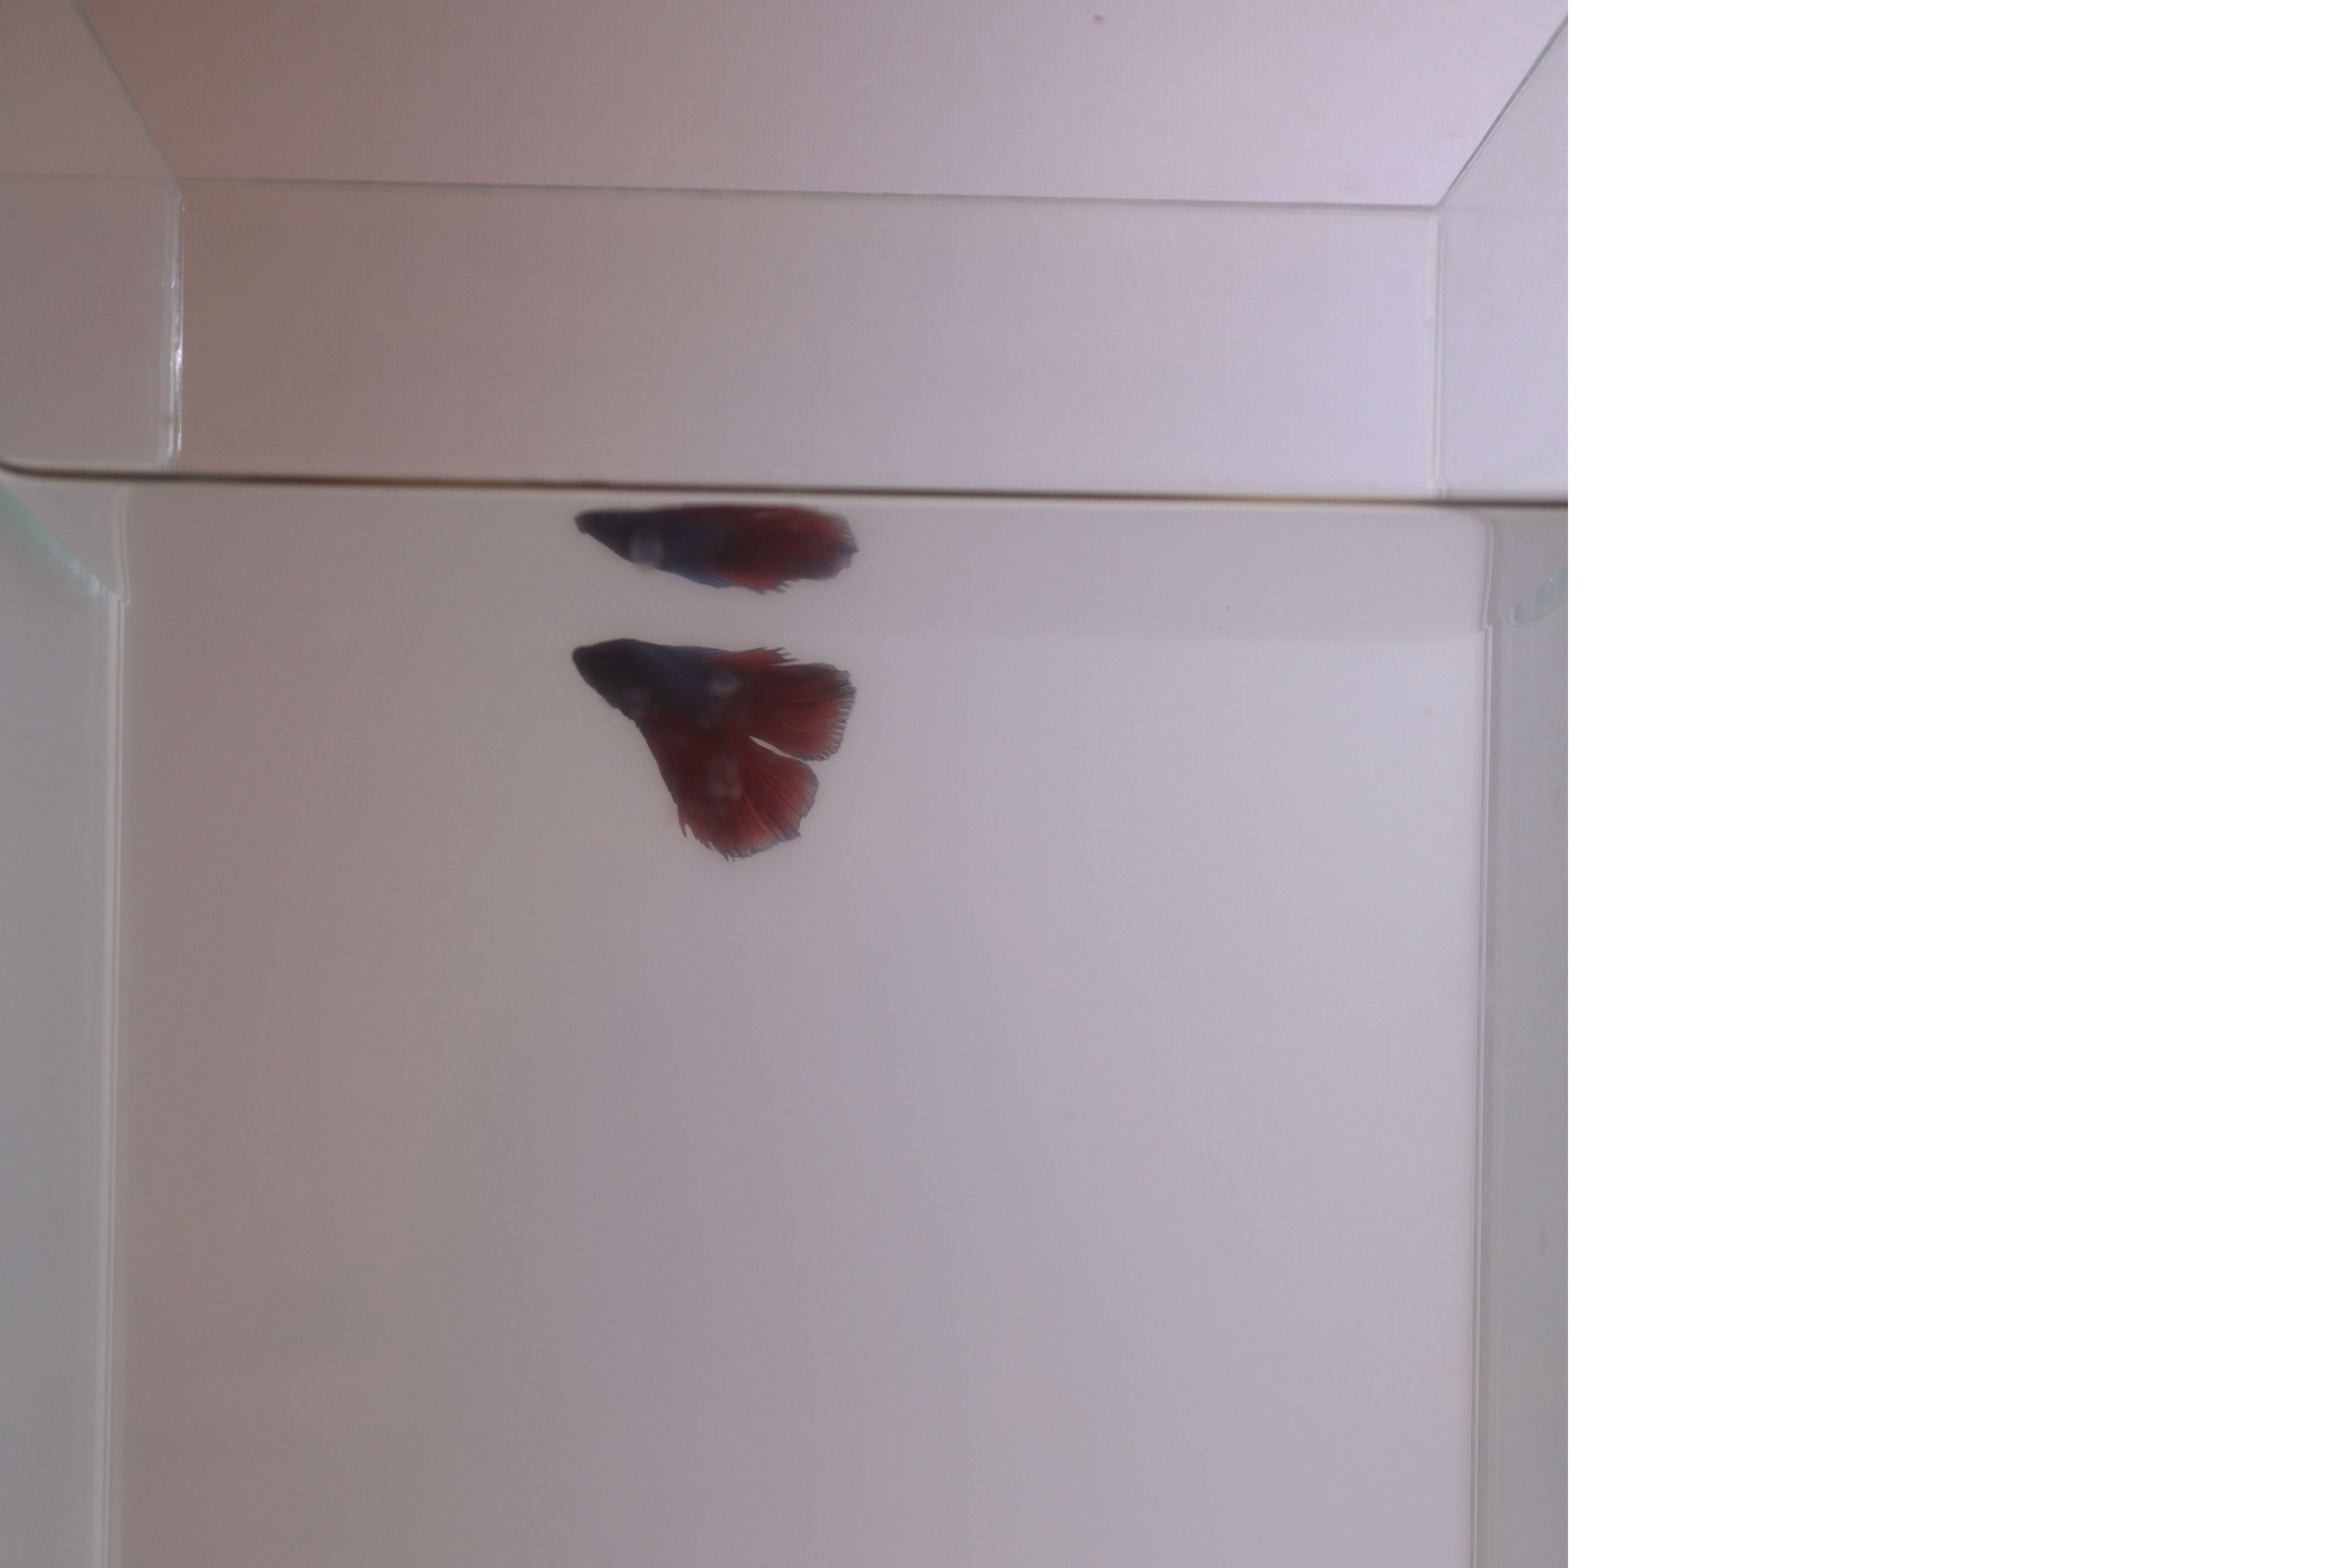fish: (555, 623, 877, 868)
